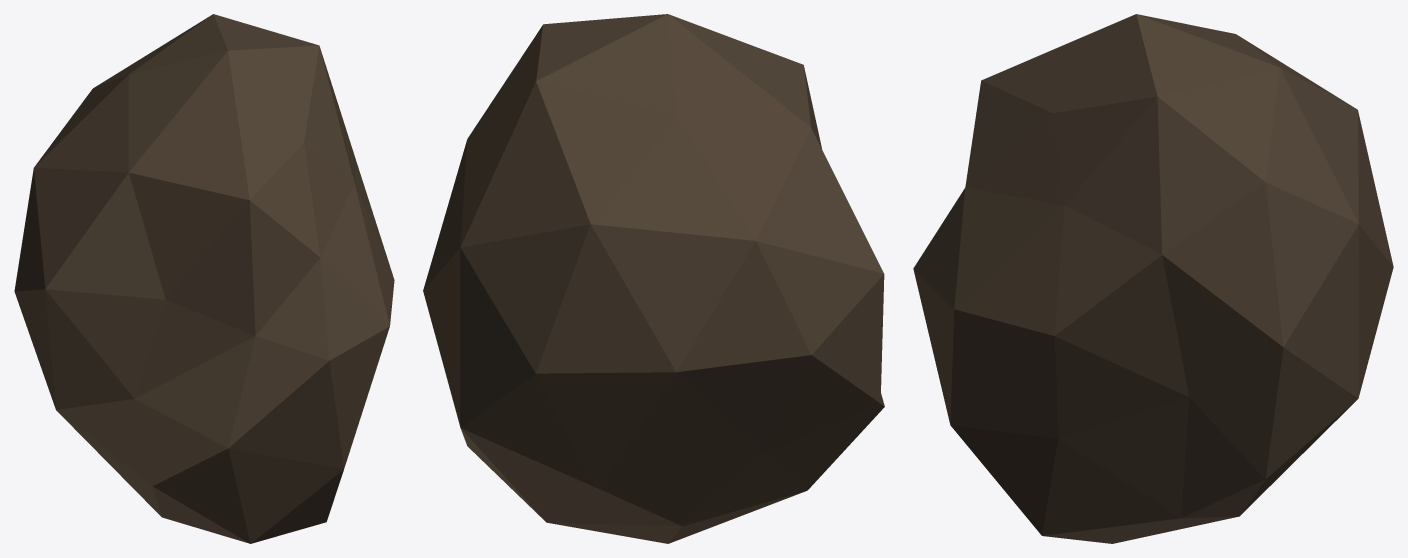
Rendered from Asteroid3.fbx.
The picture shows the model from 3 angles, left to right: view 1: azimuth 30°, elevation 25°; view 2: azimuth 150°, elevation 25°; view 3: azimuth 270°, elevation 25°; orthographic projection. The views are drawn at different scales.
Parts seen in each view (by area): view 1: Asteroid3; view 2: Asteroid3; view 3: Asteroid3.
Part boxes in pixels (x1=…): Asteroid3: x1=14, y1=14, x2=394, y2=543; Asteroid3: x1=423, y1=14, x2=884, y2=543; Asteroid3: x1=913, y1=14, x2=1393, y2=543.
Size of the model in its own units: 39.26 by 44.47 by 53.55.
